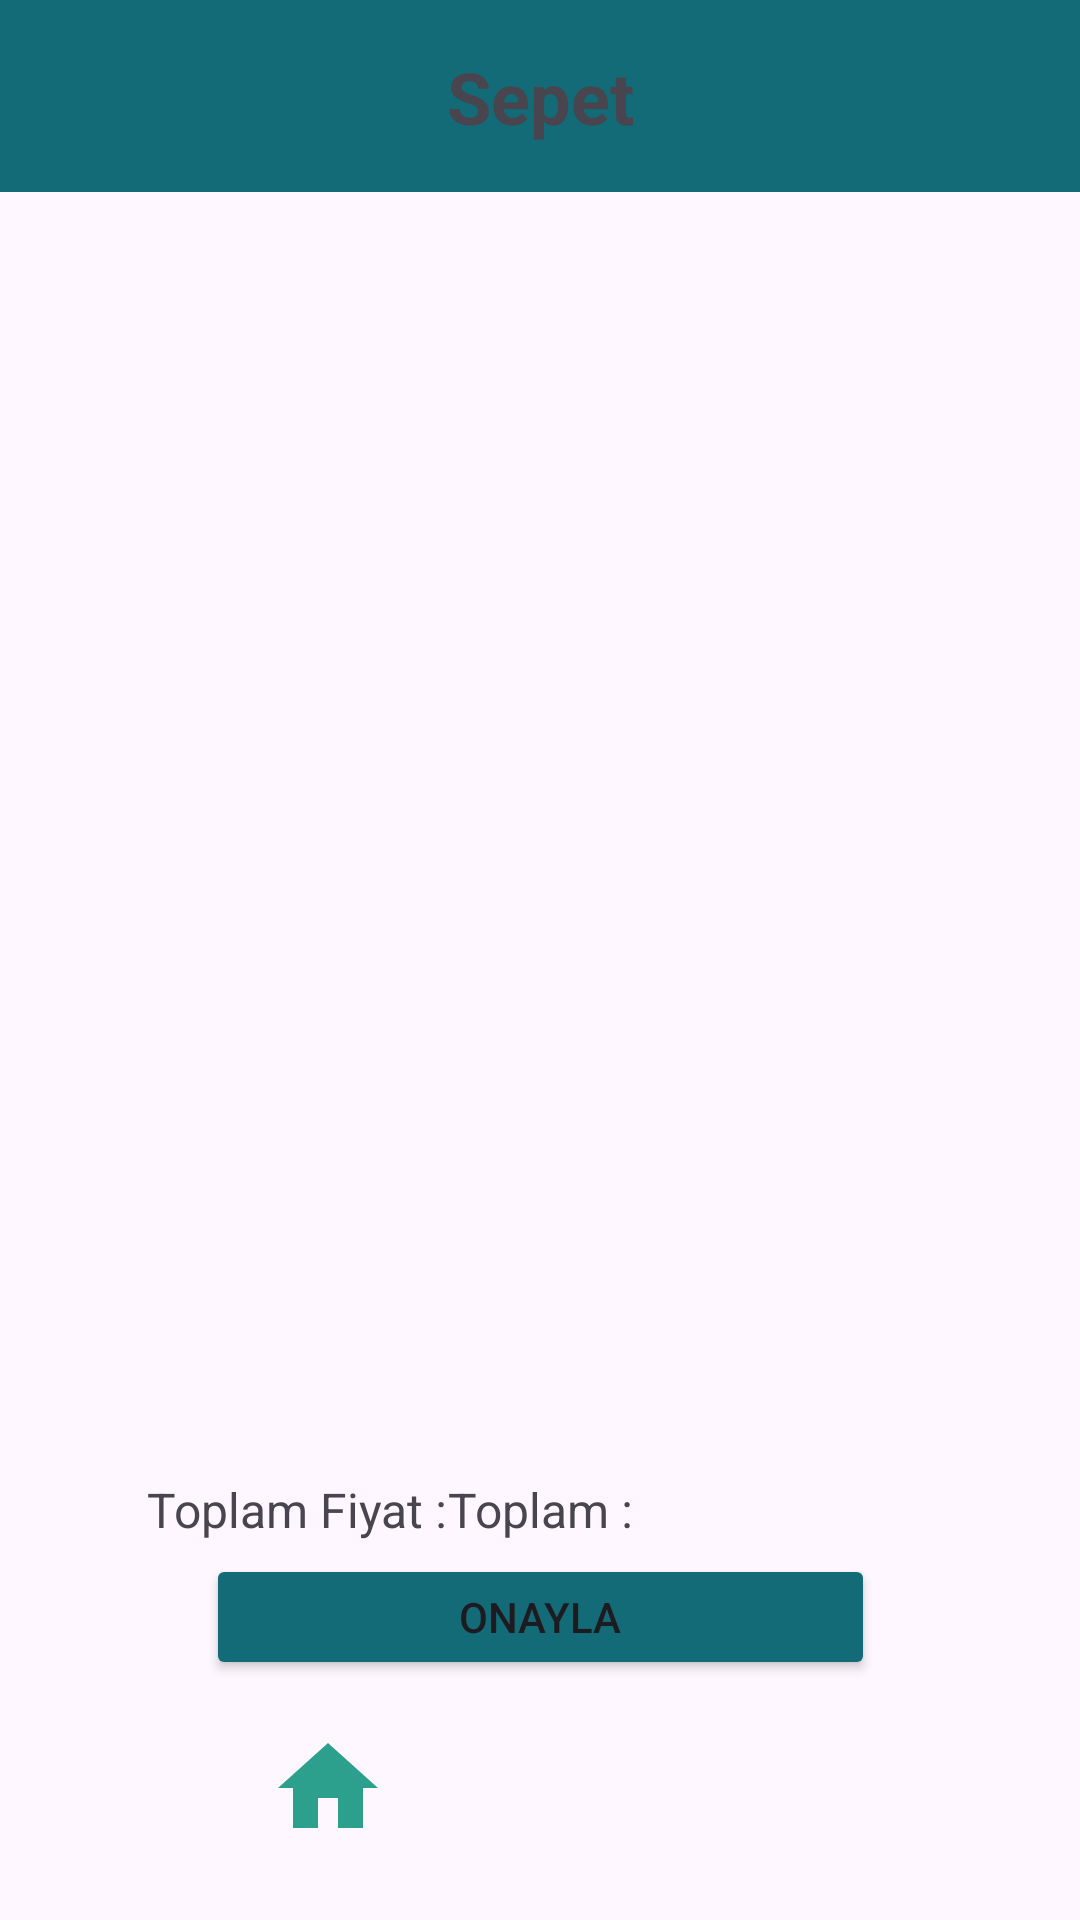

Where icons sit on this 1080 × 1920 app screen, as (x1, y1, x2, y2):
home: (278, 1743, 378, 1828)
